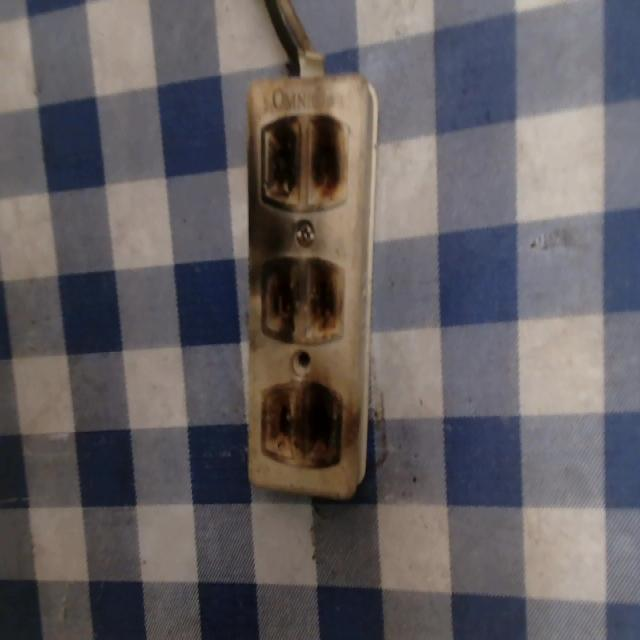-: (259, 110, 349, 206), (257, 252, 346, 343), (257, 376, 345, 468)
